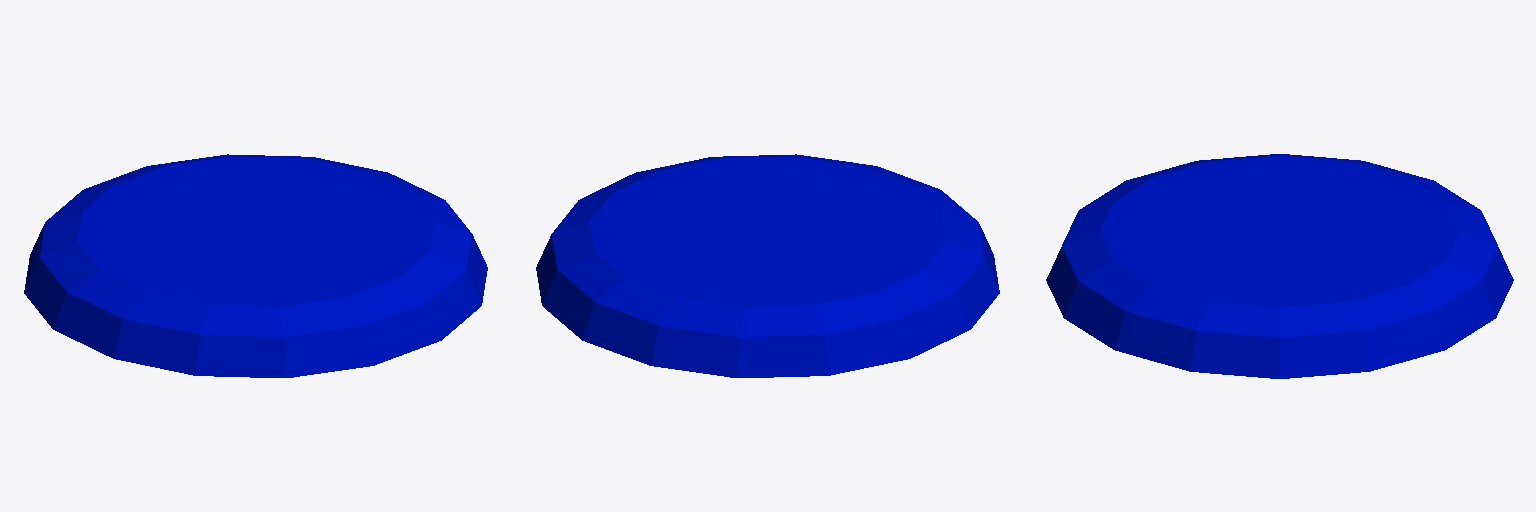
Rendered from plataforma.obj.
3 renders of one model, left to right at view 1: azimuth 30°, elevation 25°; view 2: azimuth 150°, elevation 25°; view 3: azimuth 270°, elevation 25°, orthographic.
Parts seen in each view (by area): view 1: SuperToroid; view 2: SuperToroid; view 3: SuperToroid.
Part boxes in pixels (left/top/right/bottom): SuperToroid: left=24, top=154, right=487, bottom=377; SuperToroid: left=536, top=154, right=999, bottom=377; SuperToroid: left=1046, top=154, right=1513, bottom=378.
Size of the model in its own units: 2.6 by 0.3 by 2.6.